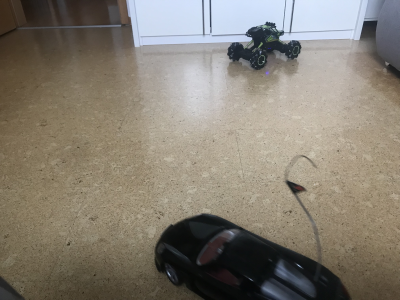remote control car: (225, 17, 303, 70)
